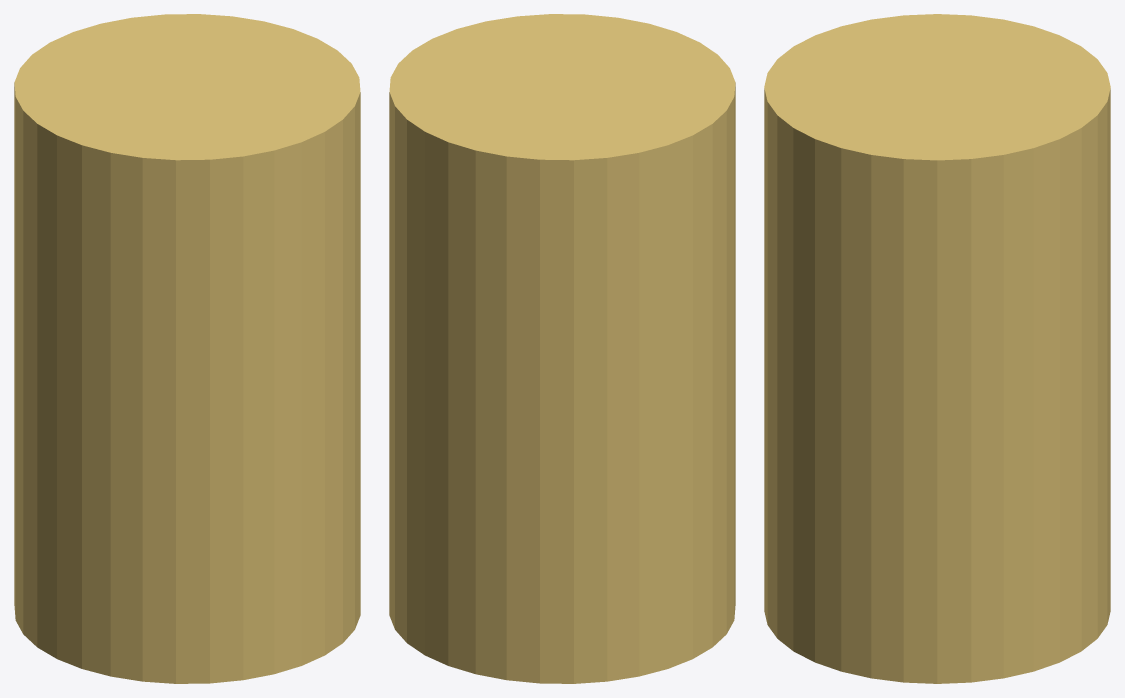
File: item_potion.glb
The picture shows the model from 3 angles, left to right: view 1: azimuth 30°, elevation 25°; view 2: azimuth 150°, elevation 25°; view 3: azimuth 270°, elevation 25°; orthographic projection.
Parts seen in each view (by area): view 1: item_potion; view 2: item_potion; view 3: item_potion.
Part boxes in pixels (box(x1,y1,x2,y2)): item_potion: box(14, 14, 360, 683); item_potion: box(389, 14, 735, 683); item_potion: box(764, 14, 1110, 683).
Bounding box in the file's own units: 0.18 × 0.3 × 0.18.
